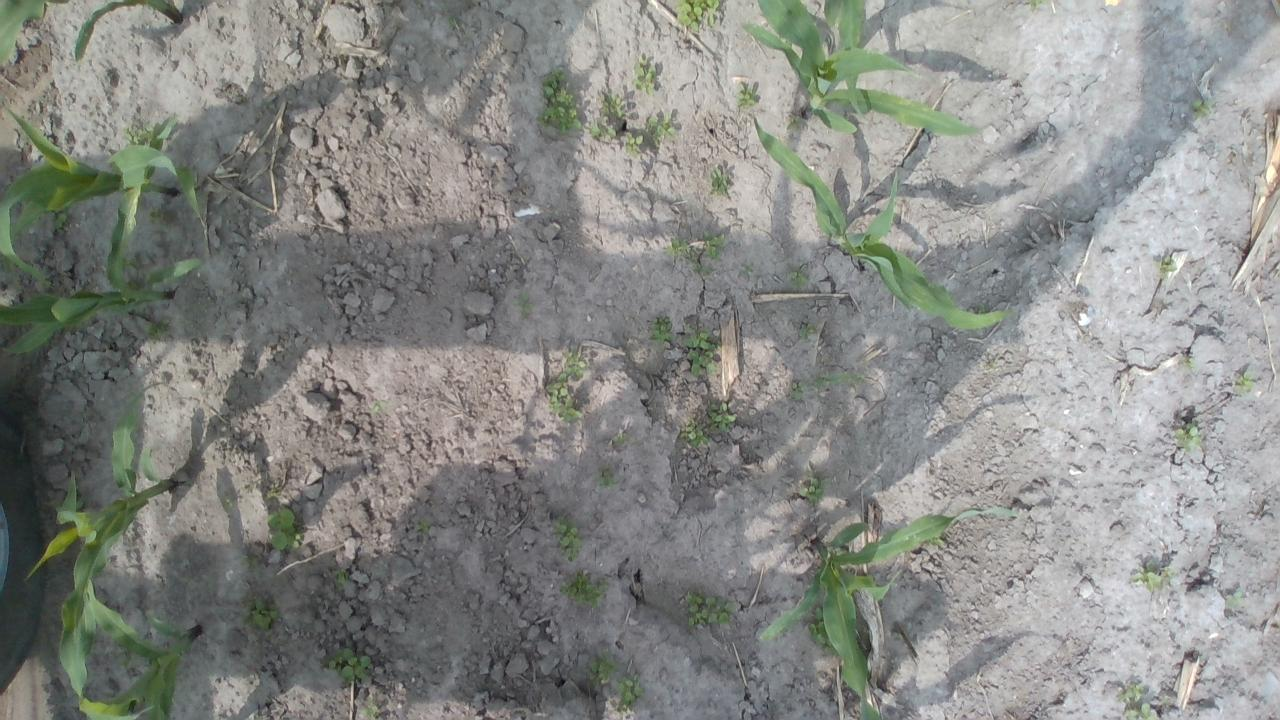Maize: (750, 116, 1016, 334), (754, 509, 1016, 720), (0, 113, 198, 359), (26, 396, 176, 720), (0, 99, 208, 279), (744, 0, 980, 139), (78, 573, 202, 720), (0, 0, 184, 71)
Weeds: (538, 65, 582, 136), (559, 572, 609, 610), (686, 590, 737, 625), (806, 606, 839, 658), (546, 373, 581, 422), (325, 646, 370, 684), (1130, 560, 1176, 594), (686, 328, 718, 376), (266, 510, 304, 550), (676, 0, 720, 33), (238, 595, 279, 630), (551, 518, 583, 562), (1118, 684, 1157, 720), (645, 112, 678, 146), (632, 55, 657, 96), (706, 400, 736, 434), (589, 646, 615, 682), (680, 418, 711, 448), (616, 672, 643, 706), (561, 344, 586, 379), (800, 474, 830, 503), (120, 124, 152, 148), (1174, 423, 1202, 450), (597, 92, 626, 118), (622, 130, 646, 160), (703, 230, 725, 259), (1150, 256, 1175, 281), (649, 318, 673, 344), (709, 164, 729, 194), (735, 83, 758, 107), (49, 206, 72, 228), (1232, 371, 1255, 393), (1192, 97, 1214, 120), (588, 120, 616, 138), (144, 320, 168, 340), (832, 370, 864, 385), (665, 238, 691, 256), (597, 468, 618, 489), (788, 270, 809, 290), (334, 570, 352, 592), (361, 700, 379, 720), (799, 320, 817, 338), (790, 381, 806, 401), (1227, 590, 1245, 607), (146, 206, 163, 223), (118, 654, 138, 668), (416, 518, 432, 534), (518, 295, 530, 316), (222, 496, 235, 510), (1182, 356, 1196, 369), (612, 433, 627, 445), (1029, 0, 1049, 9), (816, 375, 832, 386), (372, 400, 384, 413), (686, 252, 699, 264), (986, 359, 1000, 370), (694, 264, 711, 273), (930, 535, 945, 545), (740, 262, 753, 273), (978, 303, 989, 315), (446, 16, 456, 28), (831, 546, 843, 556)
